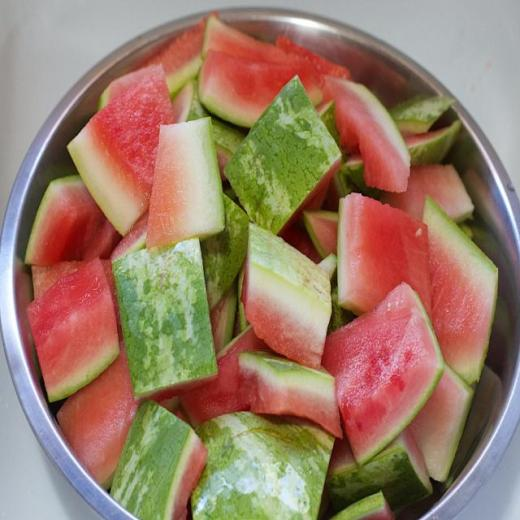Cherry: (23, 7, 499, 520)
